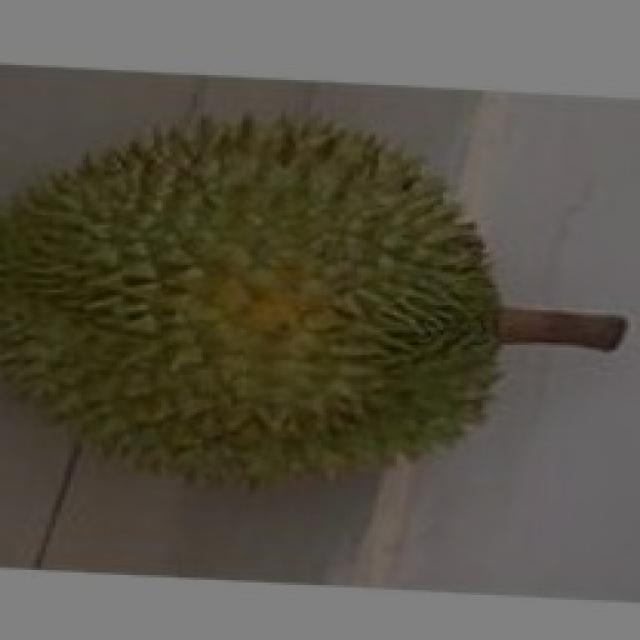fruit: (0, 103, 357, 535)
